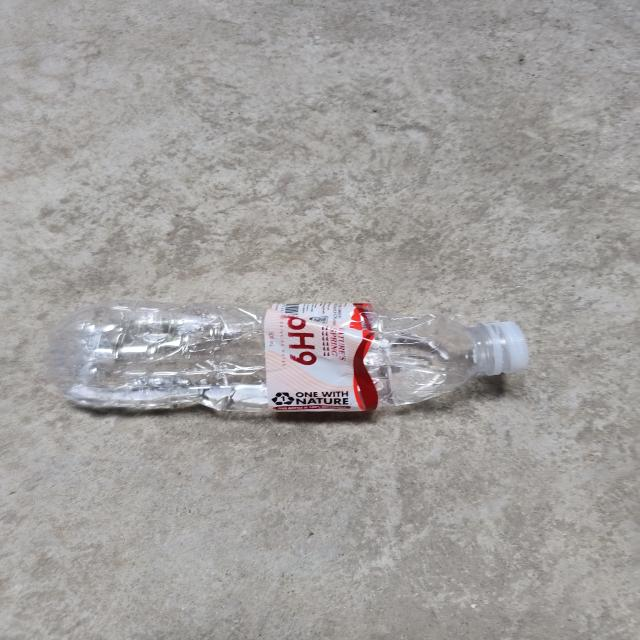Bottle: (47, 301, 531, 419)
